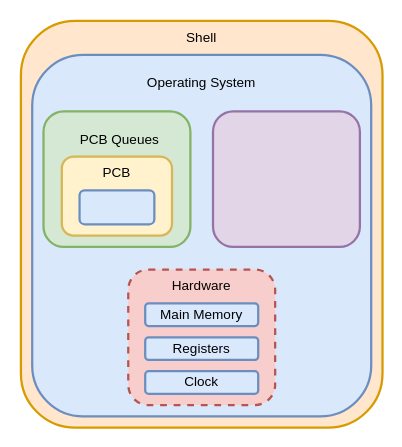
The diagram is 402 pixels wide and 447 high, and some of its shapes have lost their labels. The centre of each missing label's shape, as x and y in pixels:
Page Table: point (116, 207)
Queue Controller: point (285, 178)
